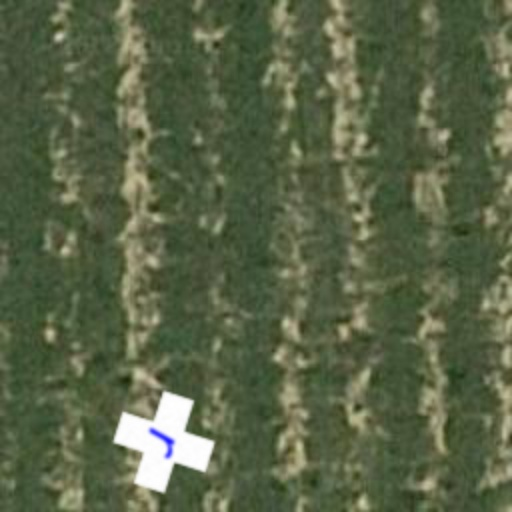cross: (102, 380, 226, 504)
